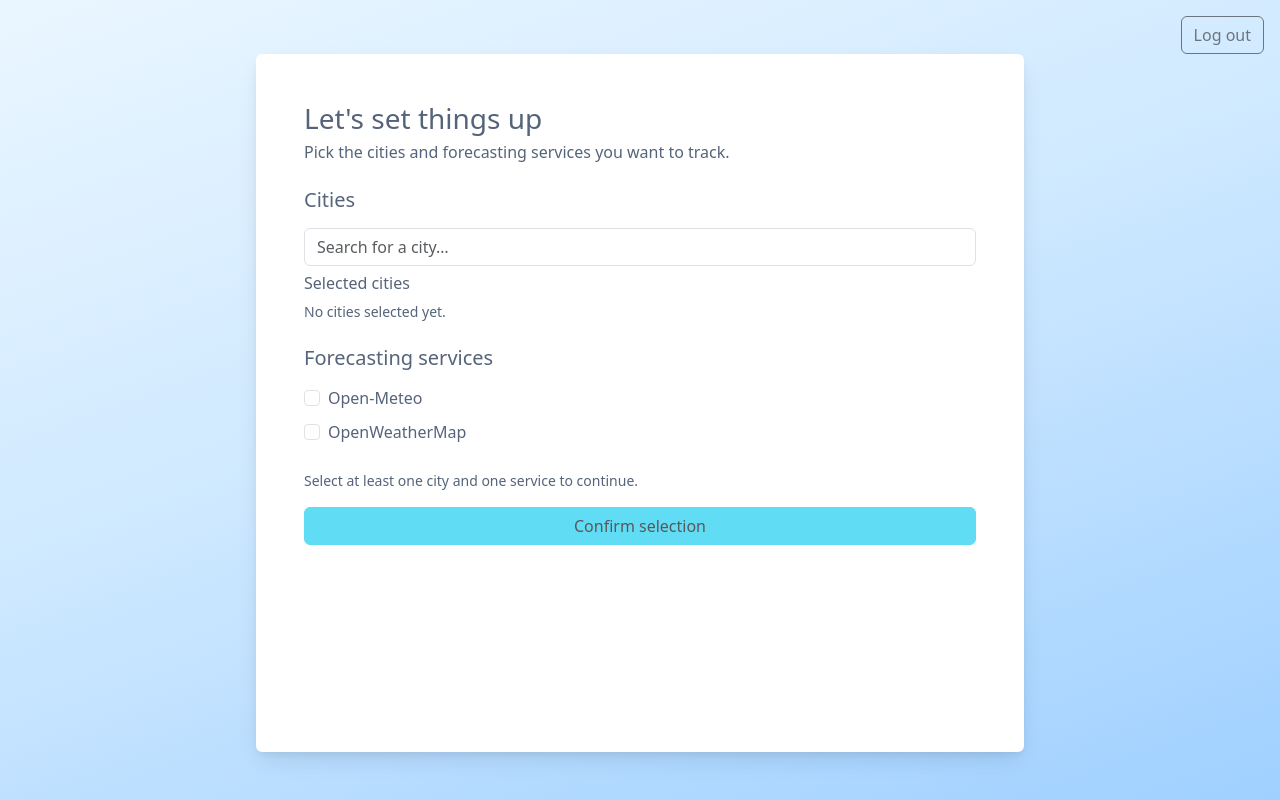
Scenario: SetupPage - confirm (UC4 + UC5) › is disabled until a city and a service are both selected
This screenshot has width=1280, height=800.
Check: the text "Open-Meteo" is shown, box [328,386,422,410]
Check: the button "Confirm selection" is disabled, box [304,507,976,545]
Step 1. Click the checkbox labelled "Open-Meteo" → (312, 398), box [304,390,320,406]
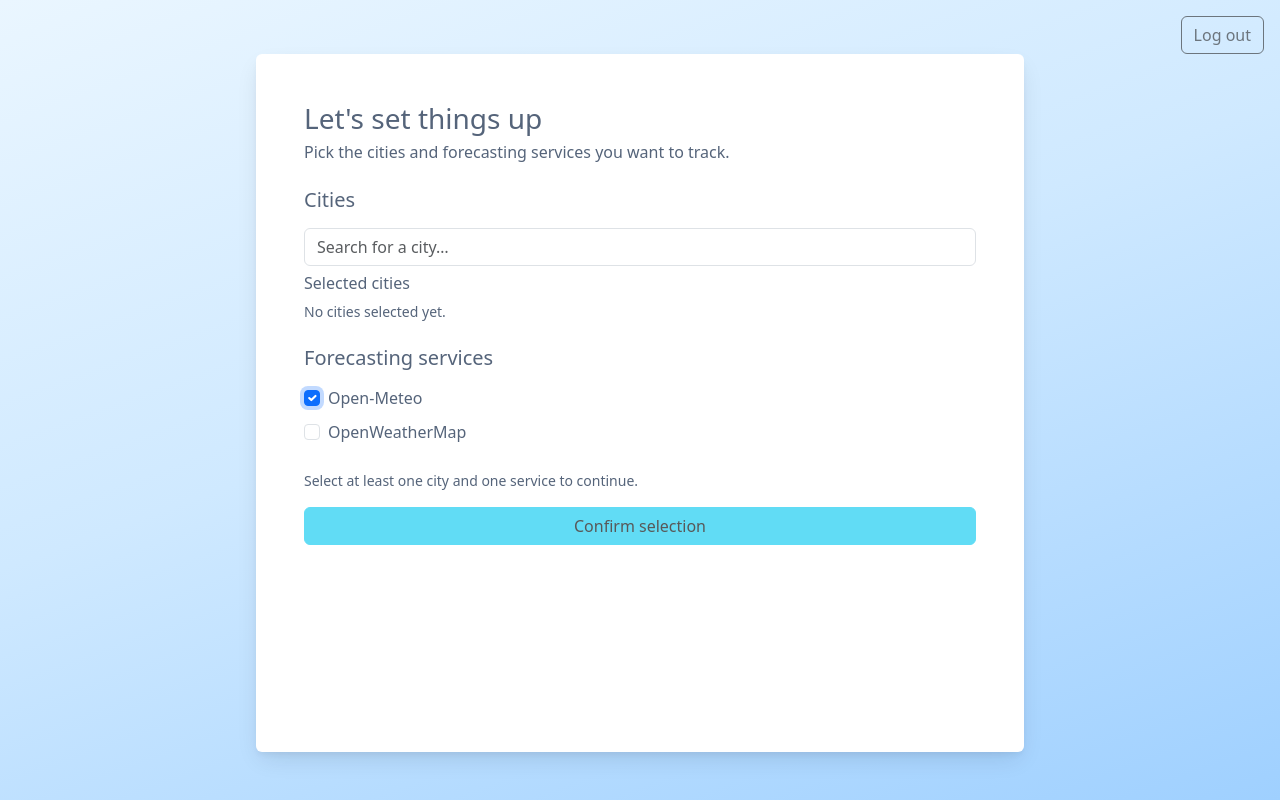
Check: the button "Confirm selection" is disabled, box [304,507,976,545]
Step 2. Type "Athens" into the field labelled "Search for a city" → (640, 247), box [304,228,976,266]
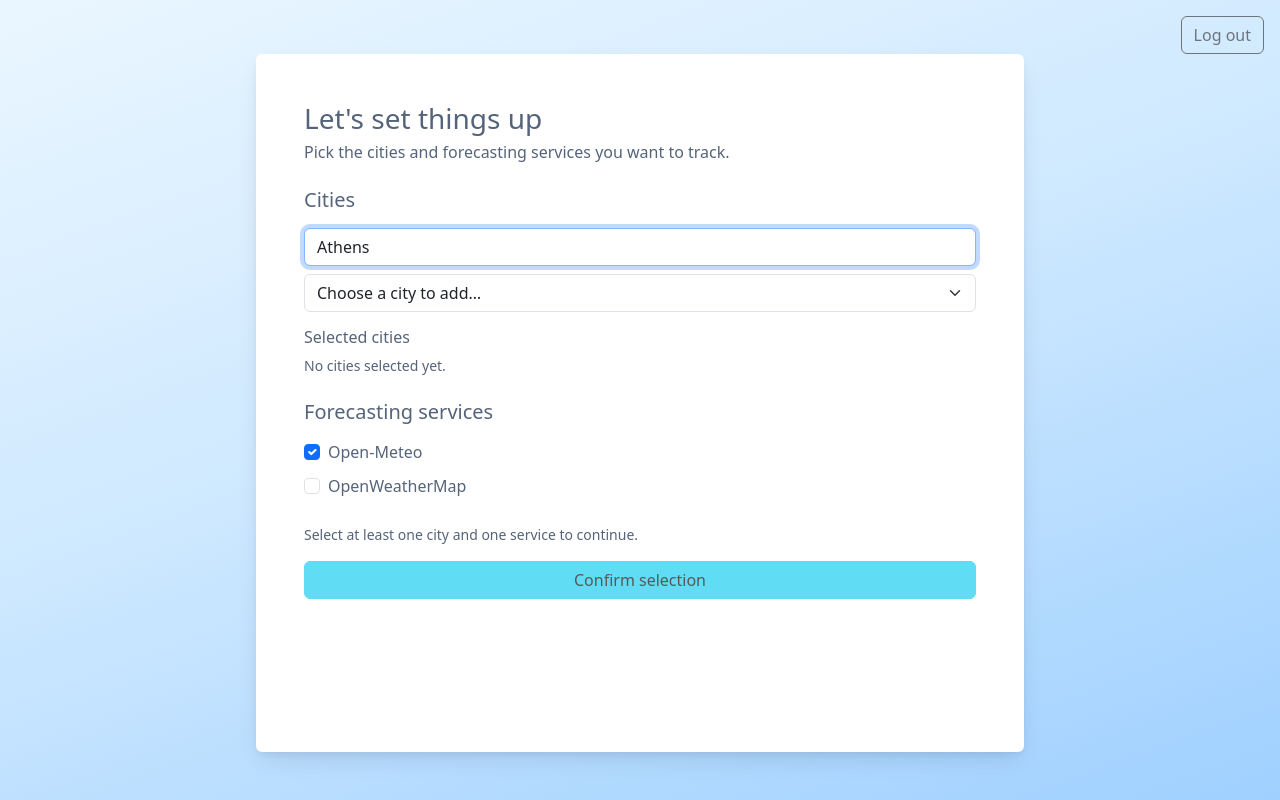
Step 3. Select "Athens, Greece" in the dropdown named "Add a city from the search results" → (640, 293), box [304,274,976,312]
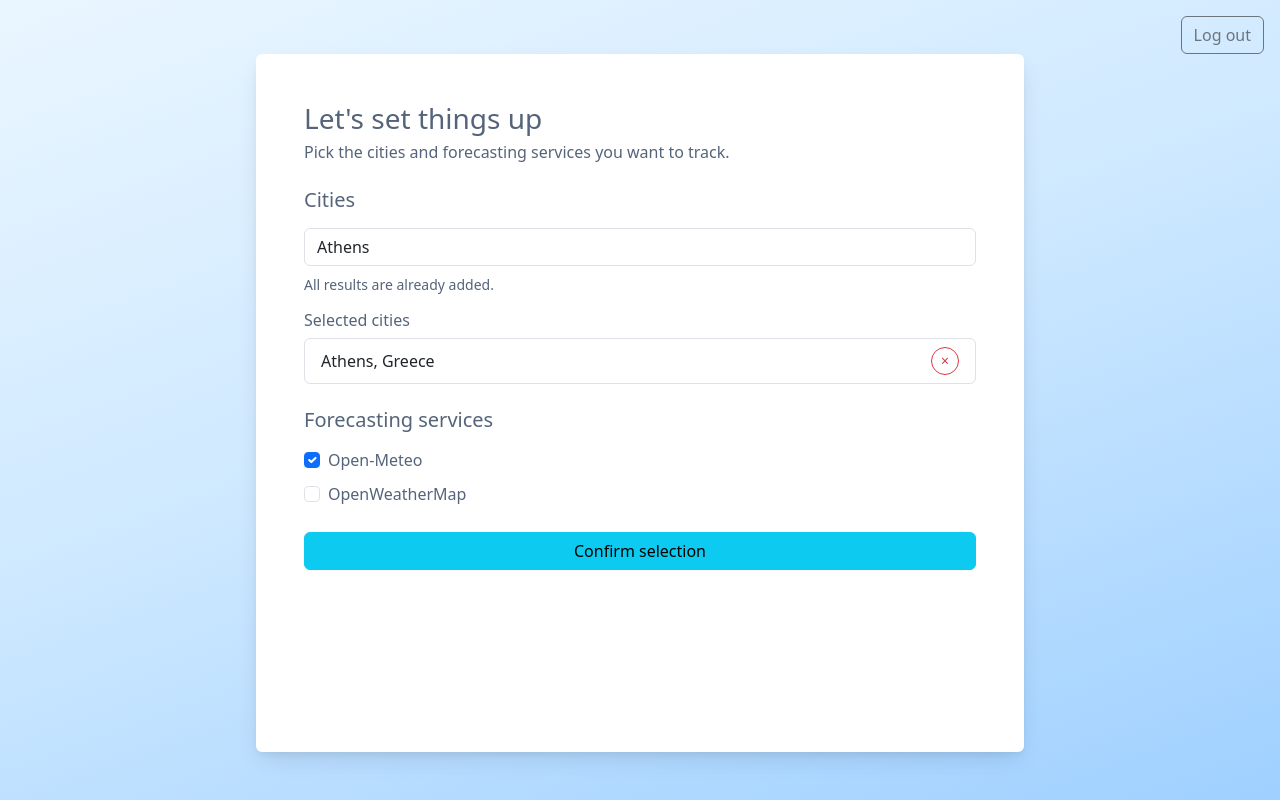
Check: the button "Confirm selection" is enabled, box [304,532,976,570]
Step 4. Click the button named "Remove Athens, Greece" → (945, 361), box [931,347,959,375]
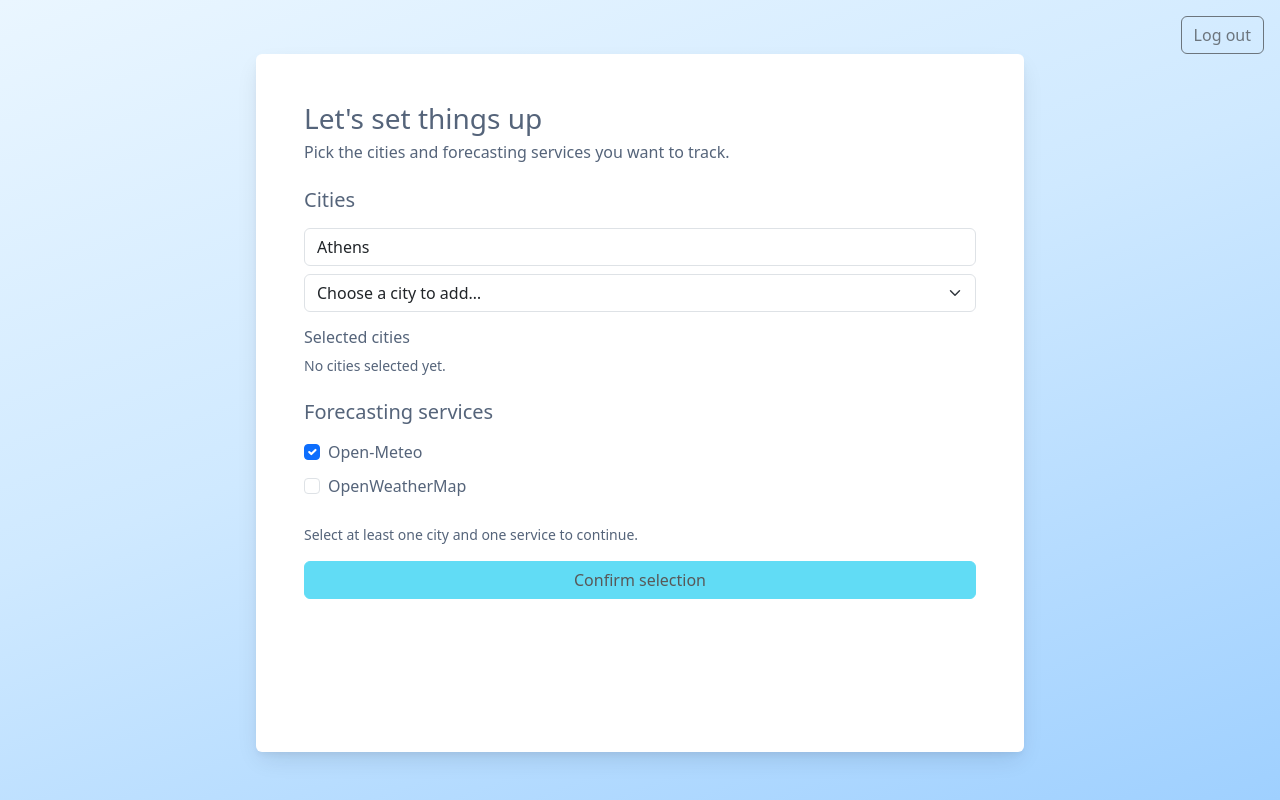
Check: the button "Confirm selection" is disabled, box [304,561,976,599]
